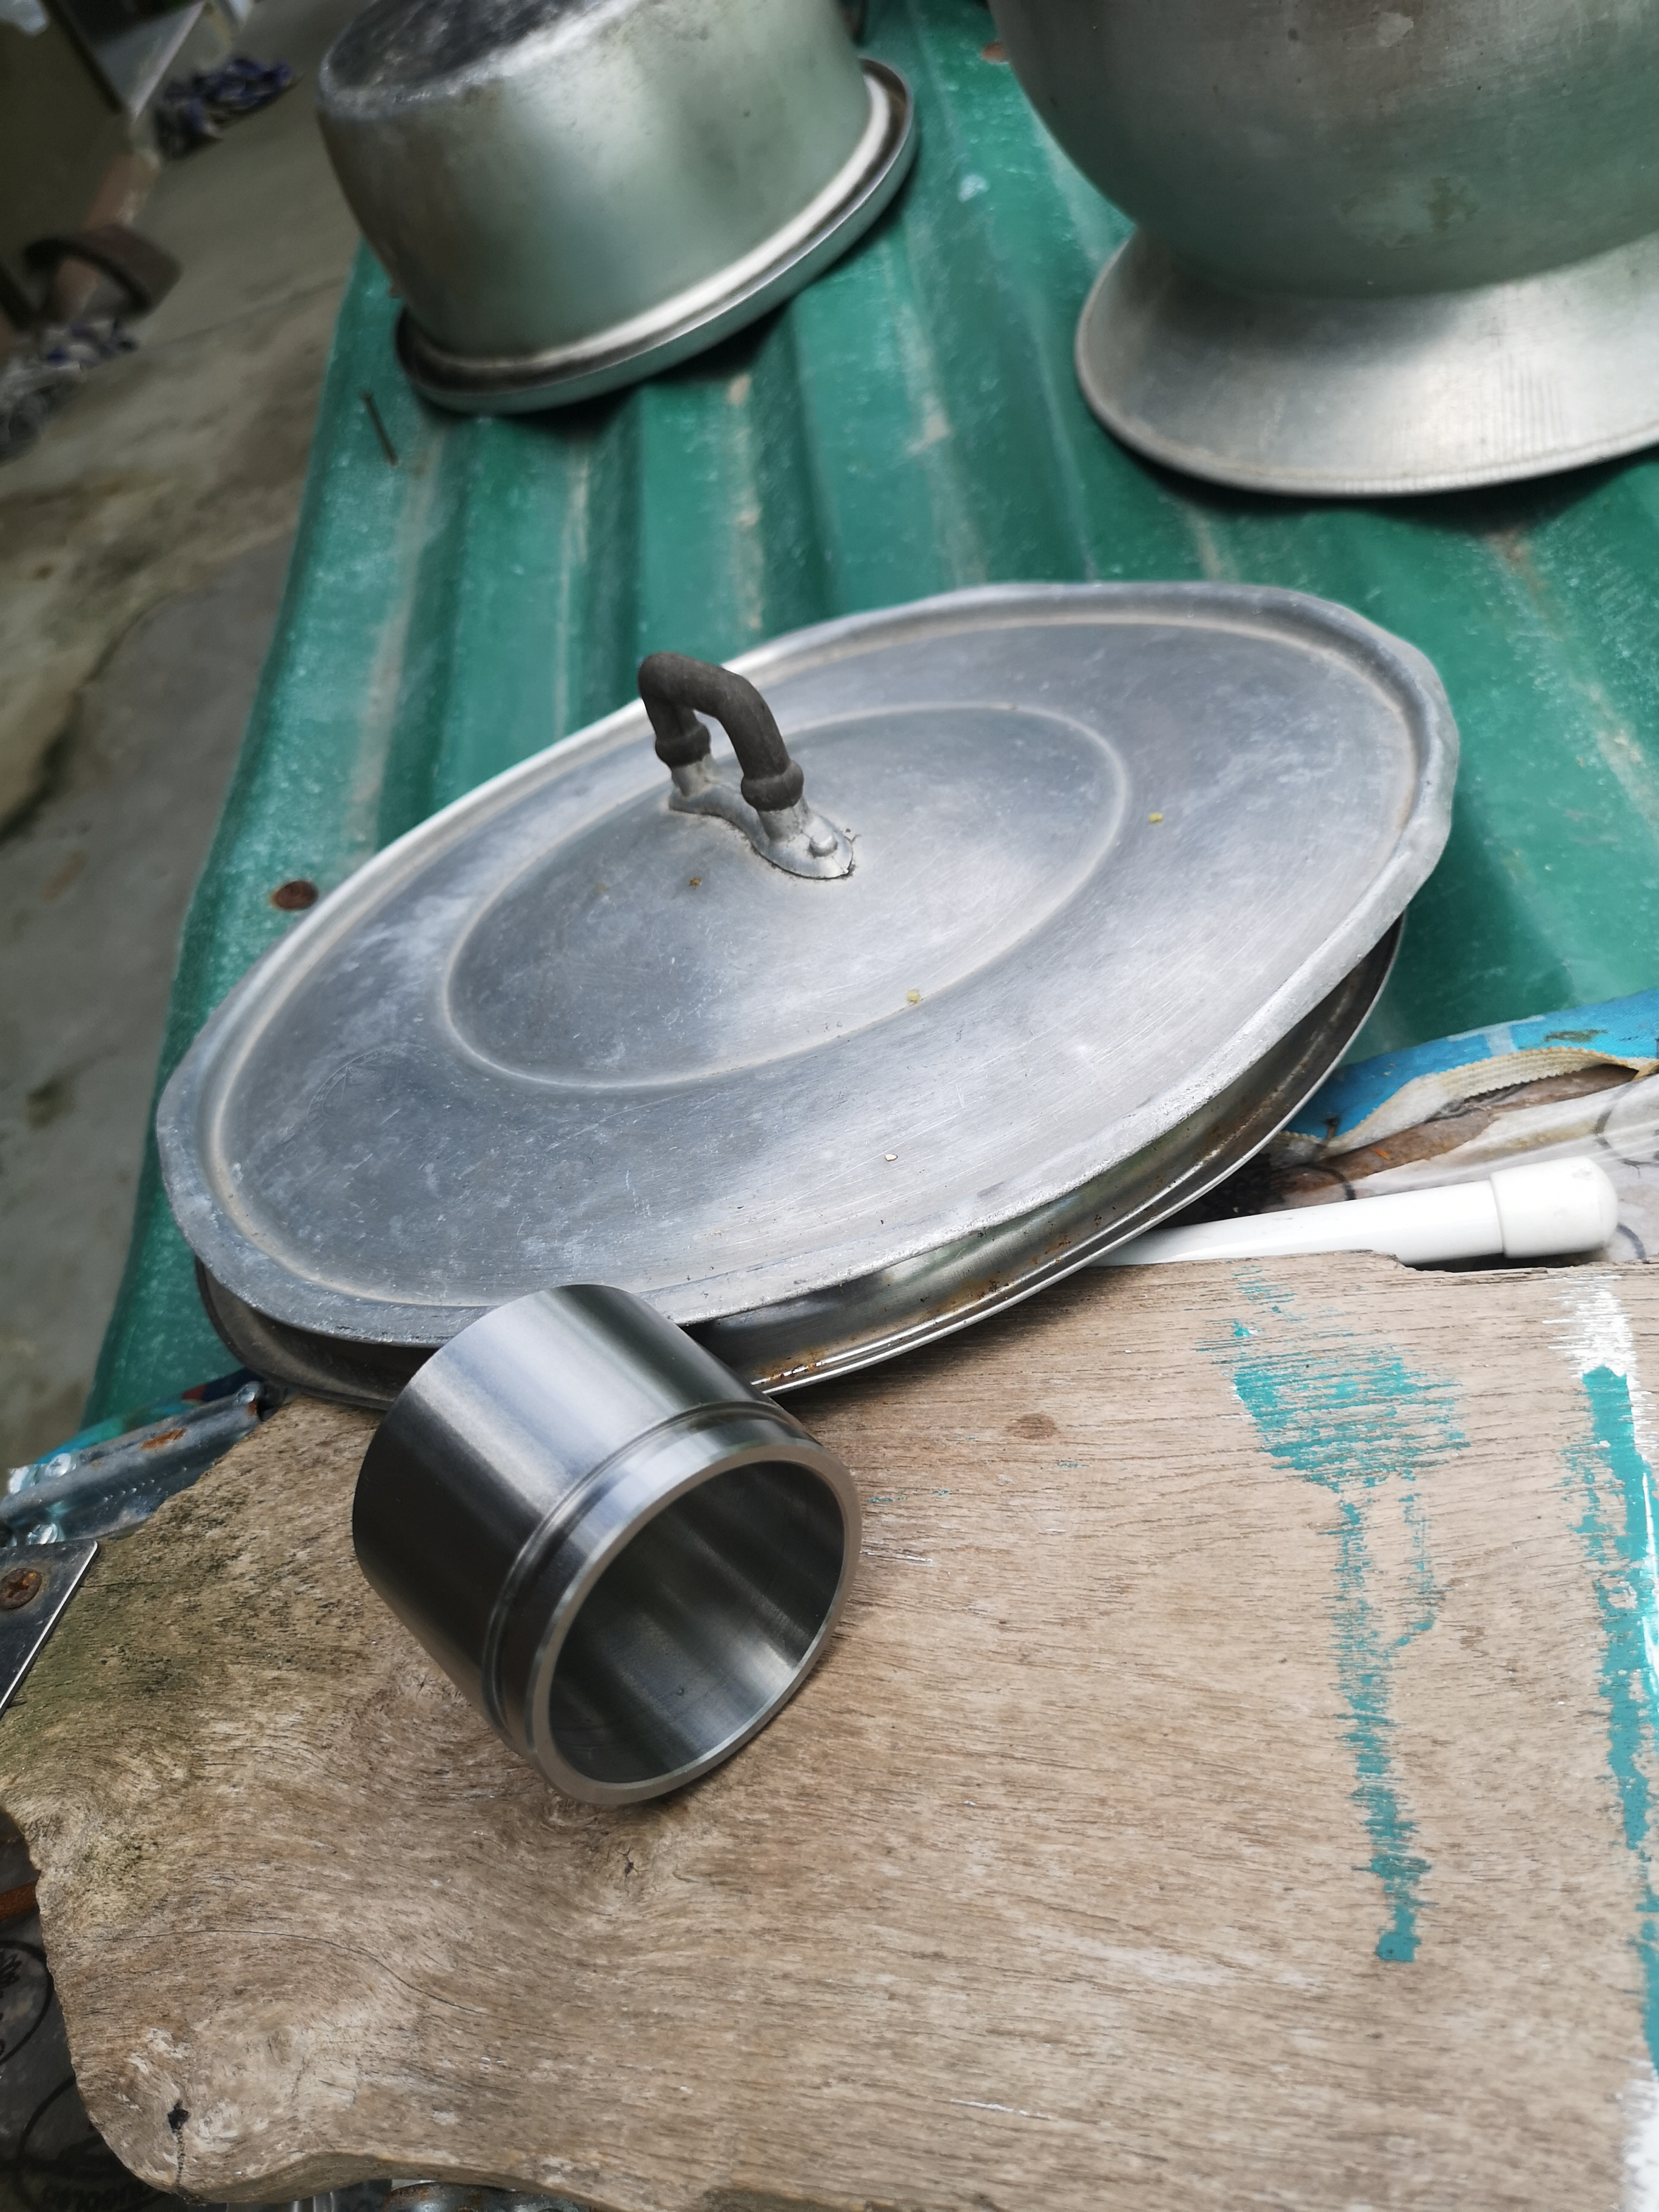ลูกสูบดิสเบรค: (300, 1264, 890, 1855)
